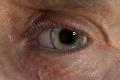eye: (53, 28, 82, 49)
